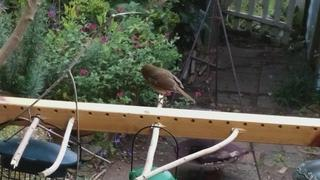robin: (138, 64, 195, 103)
